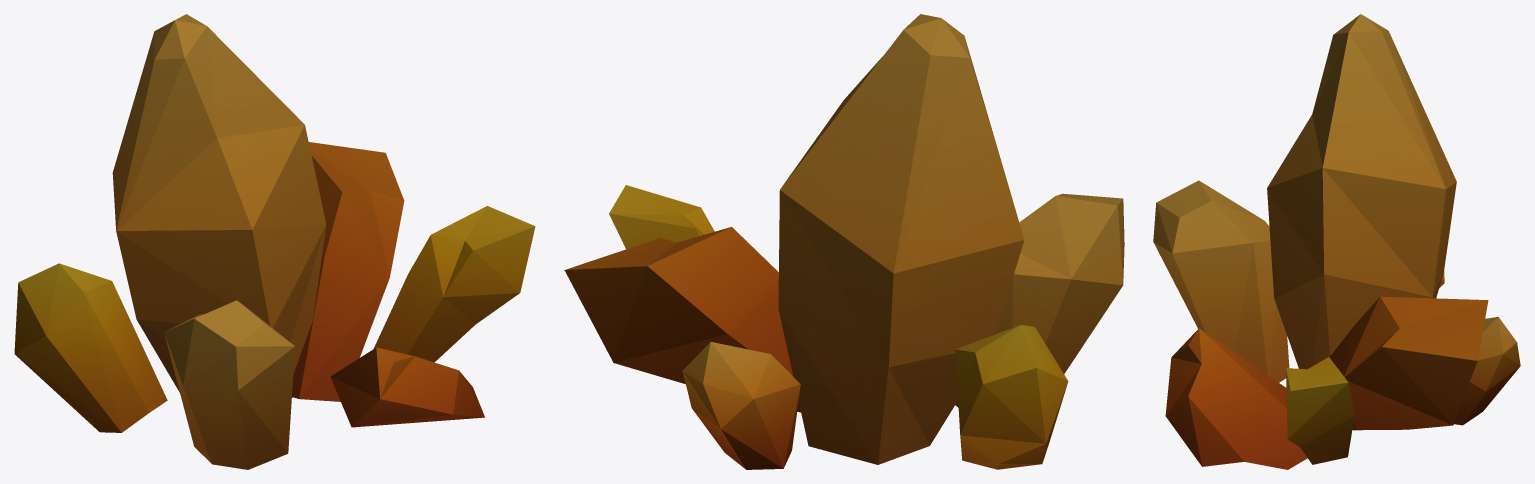
File: ZLP_Crystalk_D_12.FBX
3 views of the same model, side by side, from view 1: azimuth 30°, elevation 25°; view 2: azimuth 150°, elevation 25°; view 3: azimuth 270°, elevation 25° (orthographic). The views are drawn at different scales.
Visible parts, largest first — view 1: ZLP_Crystalk_D_12; view 2: ZLP_Crystalk_D_12; view 3: ZLP_Crystalk_D_12.
Boxes of the visible parts, x1,y1,x2,y2 form: ZLP_Crystalk_D_12: [14, 14, 535, 469]; ZLP_Crystalk_D_12: [564, 14, 1124, 469]; ZLP_Crystalk_D_12: [1153, 14, 1520, 469].
Size of the model in its own units: 151 by 126 by 117.
